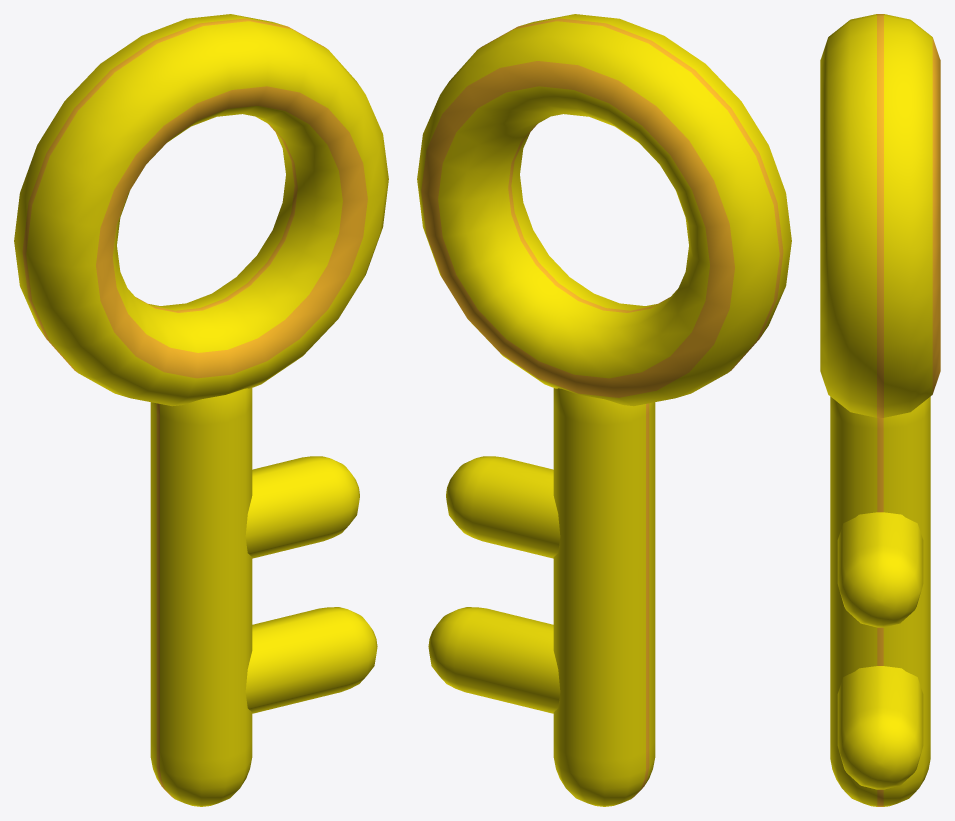
The model's file is Key.FBX.
3 views of the same model, side by side, from view 1: azimuth 30°, elevation 25°; view 2: azimuth 150°, elevation 25°; view 3: azimuth 270°, elevation 25° (orthographic).
Visible parts, largest first — view 1: Object015; view 2: Object015; view 3: Object015.
Part boxes in pixels (<box>): Object015: <box>14,14,388,806</box>; Object015: <box>417,14,791,806</box>; Object015: <box>820,14,940,806</box>.
Size of the model in its own units: 31.51 by 65.83 by 9.37.
1 material, 1 textured.
